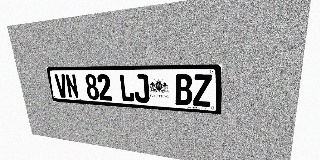2: (97, 74, 112, 101)
8: (84, 74, 100, 100)
B: (174, 74, 192, 106)
J: (133, 74, 150, 103)
L: (119, 74, 135, 102)
N: (65, 74, 79, 99)
V: (54, 74, 68, 98)
Z: (193, 74, 212, 107)
